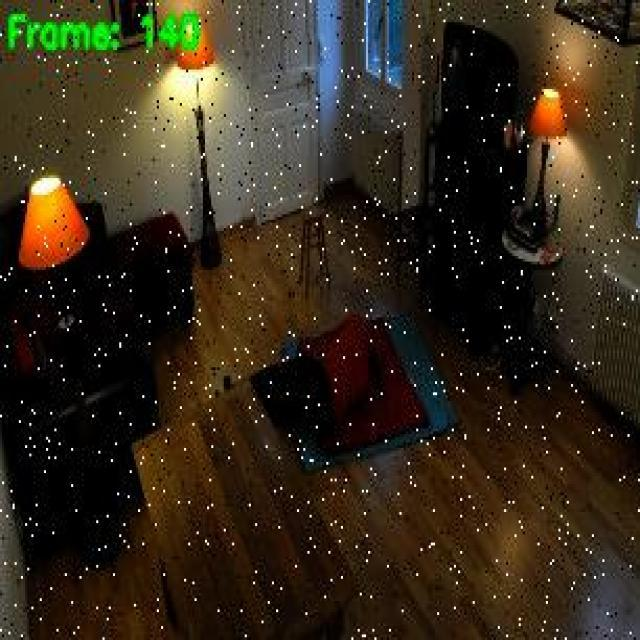fall: (211, 310, 370, 441)
